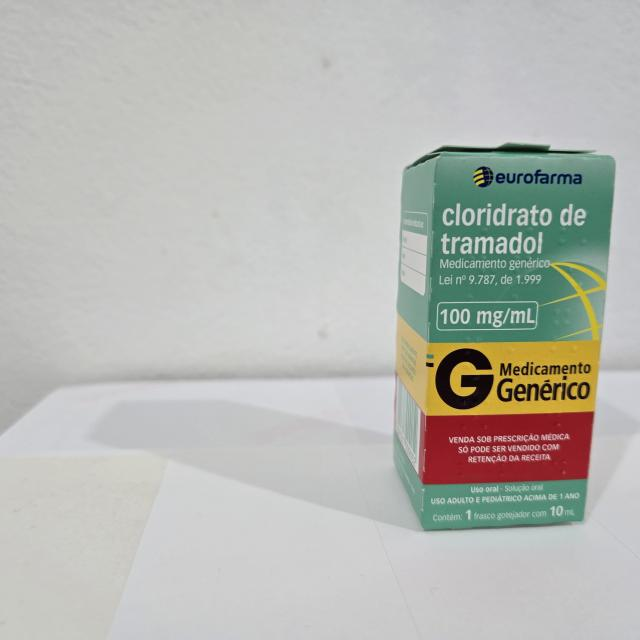tramadol: (389, 137, 620, 538)
